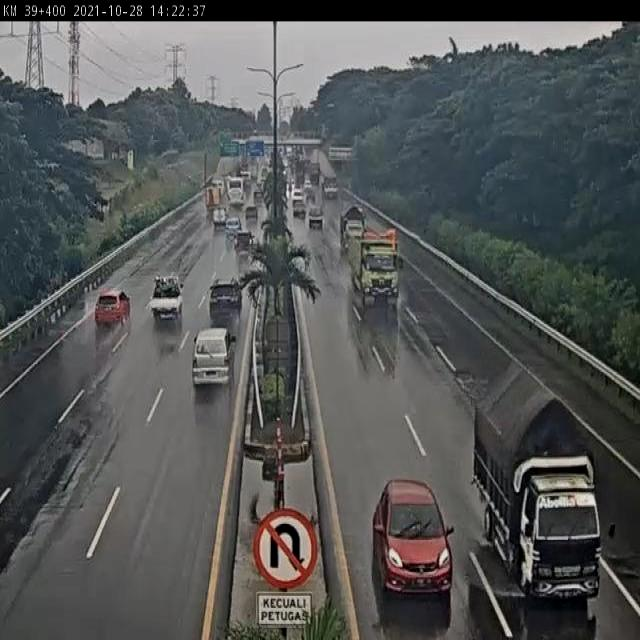Bus: (225, 176, 252, 208)
Car: (368, 477, 461, 606), (92, 281, 140, 334), (203, 279, 251, 324), (234, 231, 259, 255), (224, 214, 244, 236), (242, 202, 262, 221), (291, 188, 304, 207)
Truck: (469, 363, 600, 598), (342, 225, 409, 308), (145, 269, 189, 323), (202, 180, 225, 208)
Van: (186, 324, 236, 394), (210, 206, 229, 226)
